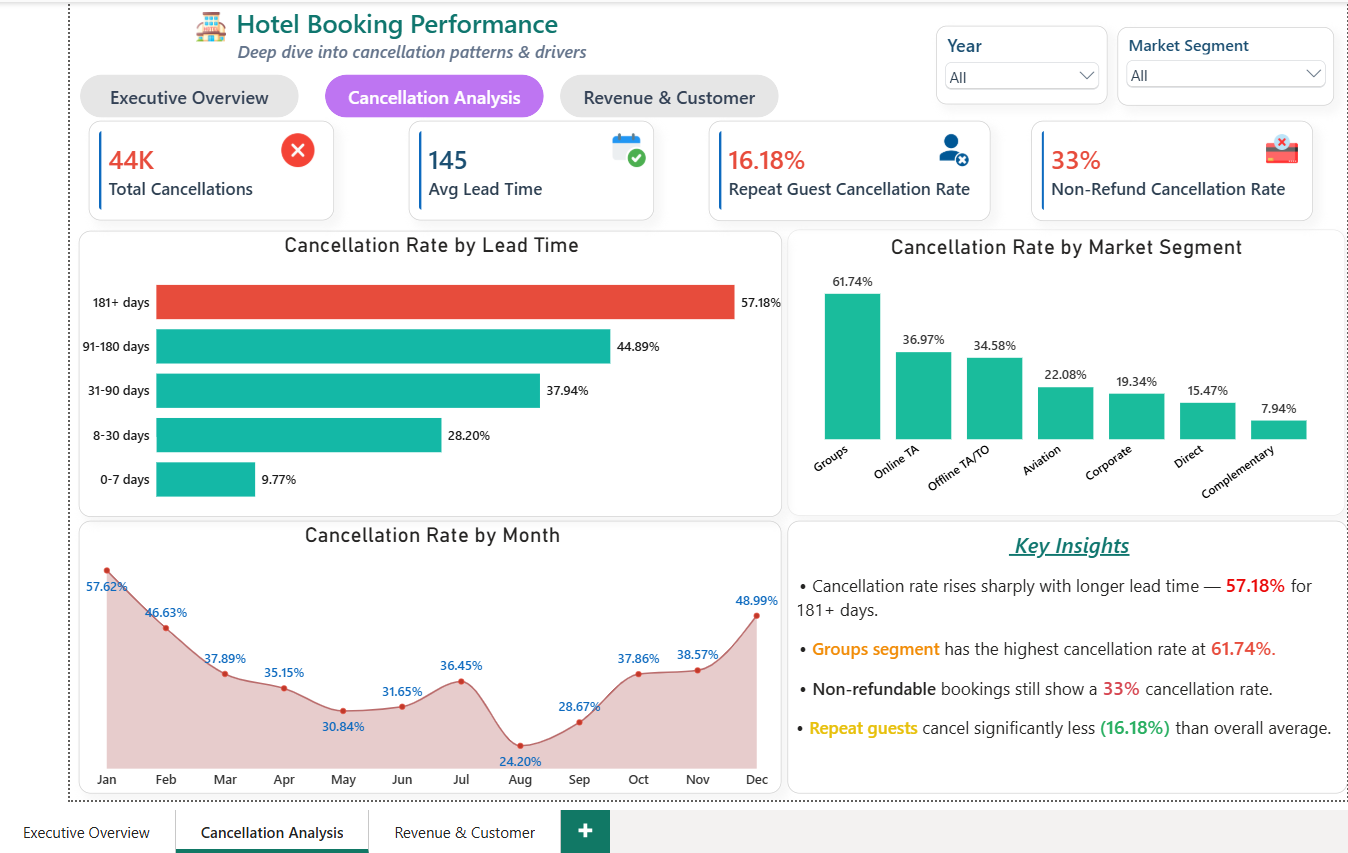

The page's visual inventory and layout, read from the dashboard file:
{"tool":"powerbi","page":{"name":"Cancellation Analysis","canvas":[1600,1000],"ordinal":1},"visuals":[{"type":"textbox","box":[176.9,0,640.3,82],"z":0},{"type":"clusteredBarChart","title":"Cancellation Rate by Lead Time","fields":{"Y":["hotel_bookings_clean.Cancellation Rate"],"Category":["hotel_bookings_clean.Lead Time Category"]},"box":[11,286.5,881,358.5],"z":1000},{"type":"columnChart","title":" Cancellation Rate by Market Segment","fields":{"Category":["hotel_bookings_clean.market_segment"],"Y":["hotel_bookings_clean.Cancellation Rate"]},"box":[898.6,284.9,698.2,358.5],"z":2000},{"type":"lineChart","title":"Cancellation Rate by Month","fields":{"Category":["Calendar Table.Month Name"],"Y":["hotel_bookings_clean.Cancellation Rate"]},"box":[11,649.7,880,341.3],"z":3000},{"type":"cardVisual","fields":{"Data":["_Measure.Total Cancellations"]},"box":[23.5,148.7,307,125],"z":4000},{"type":"cardVisual","fields":{"Data":["_Measure.Avg Lead Time"]},"box":[424.2,148.7,307,125],"z":5000},{"type":"cardVisual","fields":{"Data":["_Measure.Repeat Guest Cancellation Rate"]},"box":[799.9,148.7,353,125.2],"z":6000},{"type":"cardVisual","fields":{"Data":["_Measure.Non-Refund Cancellation Rate"]},"box":[1203.8,148.7,353,125.2],"z":7000},{"type":"slicer","fields":{"Values":["Calendar Table.Year"]},"box":[1084.9,29.7,214.6,98],"z":8000},{"type":"slicer","fields":{"Values":["hotel_bookings_clean.market_segment"]},"box":[1311.8,31.3,271.6,98],"z":9000},{"type":"actionButton","box":[319.4,90.8,274,54],"z":10000},{"type":"actionButton","box":[12.5,90.8,274,54],"z":11000},{"type":"actionButton","box":[613.7,90.8,274,54],"z":12000},{"type":"textbox","box":[898.6,649.7,701.3,341.3],"z":13000},{"type":"image","box":[263.2,164.7,45,42],"z":14000},{"type":"image","box":[677.7,164.7,45,42],"z":15000},{"type":"image","box":[1084.9,164.4,45,42],"z":16000},{"type":"image","box":[1495,162.8,45.4,42],"z":17000}]}

Visuals, with their boxes on the page's 1600x1000 design canvas (x1, y1, x2, y2). These are canvas units, not pixel positions in the 1348x853 screenshot, which may show the page scaled, cropped or inside an application window:
textbox: (left=177, top=0, right=817, bottom=82)
"Cancellation Rate by Lead Time" clusteredBarChart: (left=11, top=286, right=892, bottom=645)
" Cancellation Rate by Market Segment" columnChart: (left=899, top=285, right=1597, bottom=643)
"Cancellation Rate by Month" lineChart: (left=11, top=650, right=891, bottom=991)
cardVisual - _Measure.Total Cancellations: (left=24, top=149, right=330, bottom=274)
cardVisual - _Measure.Avg Lead Time: (left=424, top=149, right=731, bottom=274)
cardVisual - _Measure.Repeat Guest Cancellation Rate: (left=800, top=149, right=1153, bottom=274)
cardVisual - _Measure.Non-Refund Cancellation Rate: (left=1204, top=149, right=1557, bottom=274)
slicer - Calendar Table.Year: (left=1085, top=30, right=1300, bottom=128)
slicer - hotel_bookings_clean.market_segment: (left=1312, top=31, right=1583, bottom=129)
actionButton: (left=319, top=91, right=593, bottom=145)
actionButton: (left=12, top=91, right=286, bottom=145)
actionButton: (left=614, top=91, right=888, bottom=145)
textbox: (left=899, top=650, right=1600, bottom=991)
image: (left=263, top=165, right=308, bottom=207)
image: (left=678, top=165, right=723, bottom=207)
image: (left=1085, top=164, right=1130, bottom=206)
image: (left=1495, top=163, right=1540, bottom=205)
